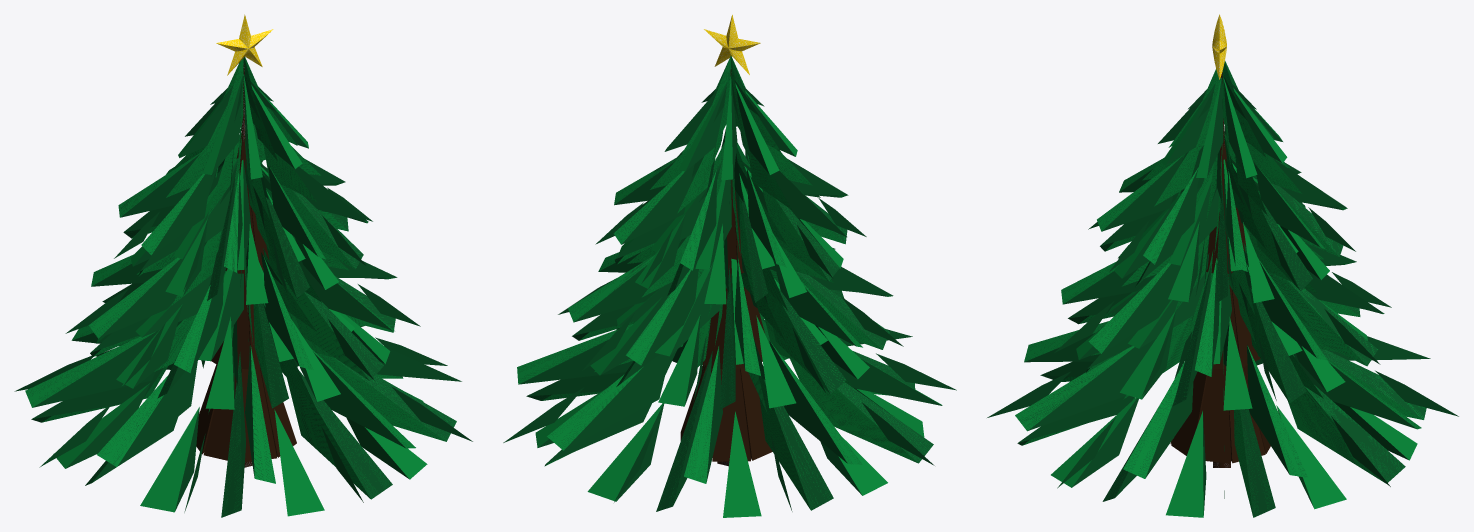
3 views of the same model, side by side, from view 1: azimuth 30°, elevation 25°; view 2: azimuth 150°, elevation 25°; view 3: azimuth 270°, elevation 25° (orthographic).
Parts seen in each view (by area): view 1: Wing (×83), group_0; view 2: Wing (×79), group_0; view 3: Wing (×72), group_0.
Part boxes in pixels (x1,y1,x2,y2): Wing (×83): (25, 74, 472, 517); group_0: (216, 14, 273, 75); Wing (×79): (503, 77, 956, 517); group_0: (704, 14, 760, 74); Wing (×72): (987, 77, 1458, 517); group_0: (1212, 14, 1226, 79).
Bounding box in the file's own units: 231 × 231 × 242.
